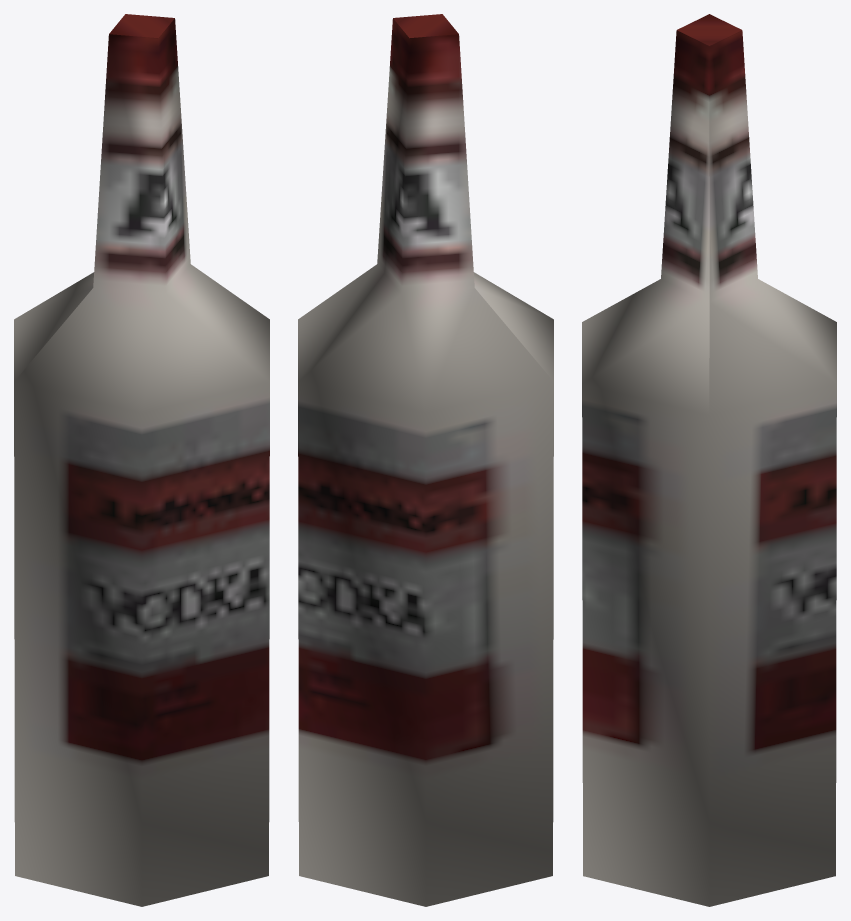
The model's file is bottle_vodka_01_lod2.glb.
The picture shows the model from 3 angles, left to right: view 1: azimuth 30°, elevation 25°; view 2: azimuth 150°, elevation 25°; view 3: azimuth 270°, elevation 25°; orthographic projection.
Parts seen in each view (by area): view 1: surf0; view 2: surf0; view 3: surf0.
Boxes of the visible parts, x1,y1,x2,y2 form: surf0: (14, 14, 269, 906); surf0: (298, 14, 553, 906); surf0: (582, 14, 836, 906).
Bounding box in the file's own units: 3.92 × 12 × 3.4.
